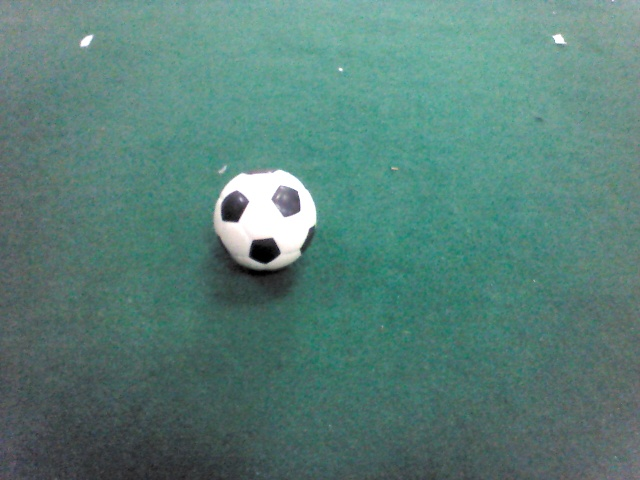ball: (210, 169, 319, 273)
